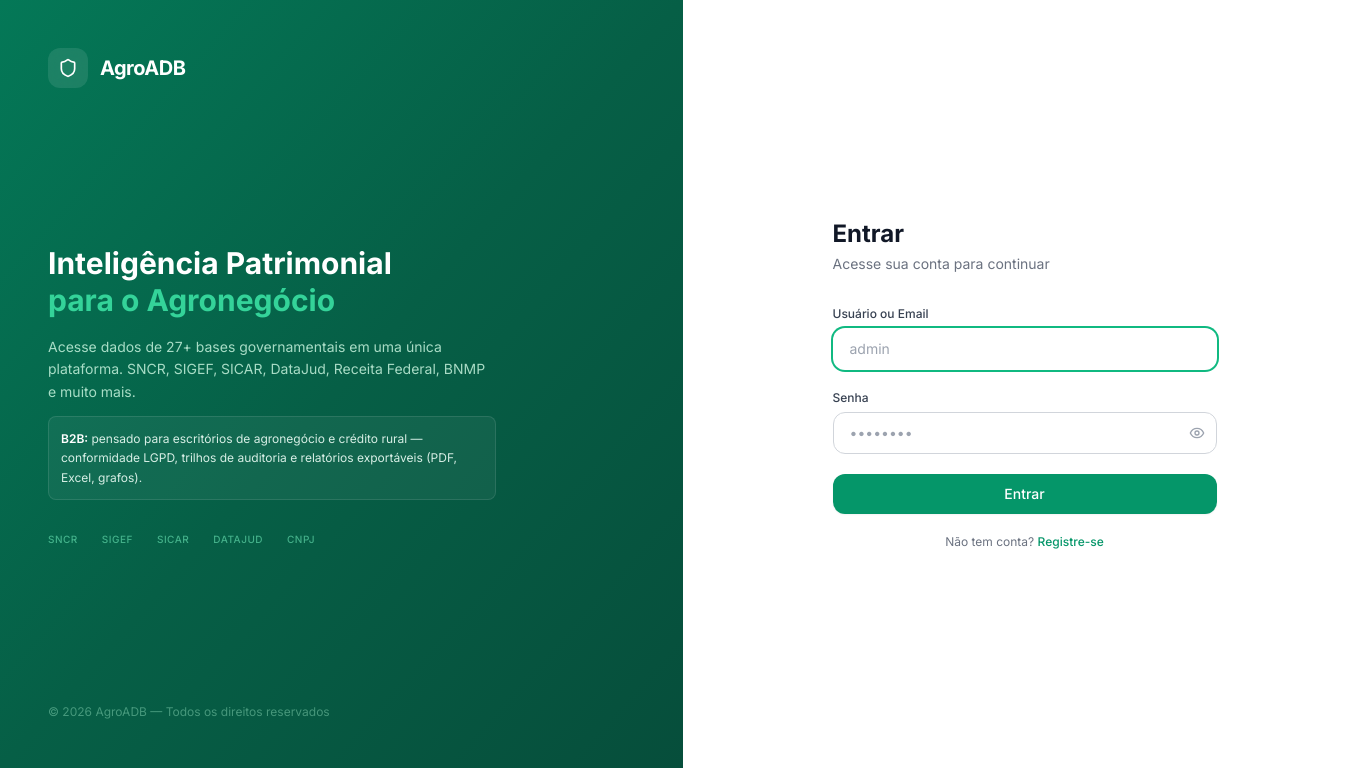
Test: LoginPage Component › should validate minimum username length
Type "ab" into the field labelled "Usuário ou Email".
click(1024, 349); type("ab")  # box [832,328,1216,370]
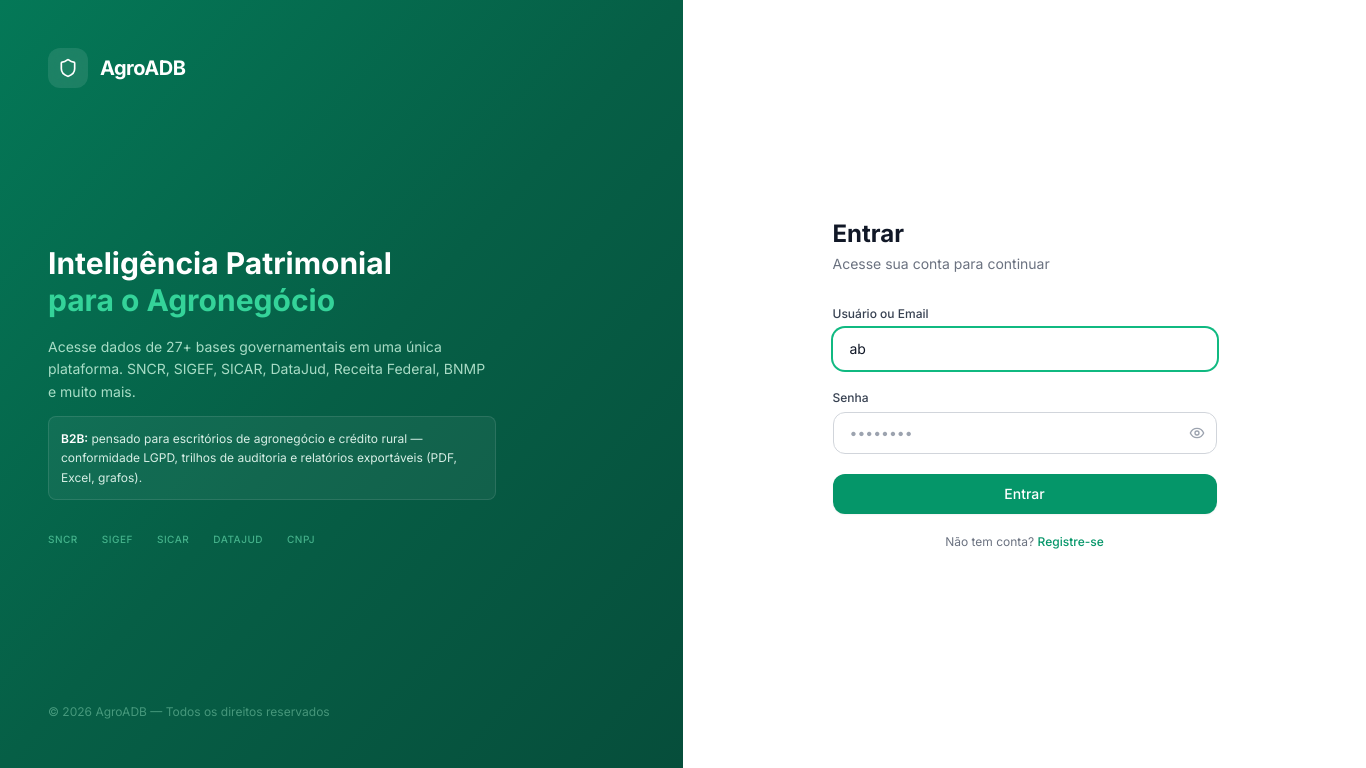
Type "12345" into the password field labelled "Senha".
click(1024, 433); type("12345")  # box [832,412,1216,454]
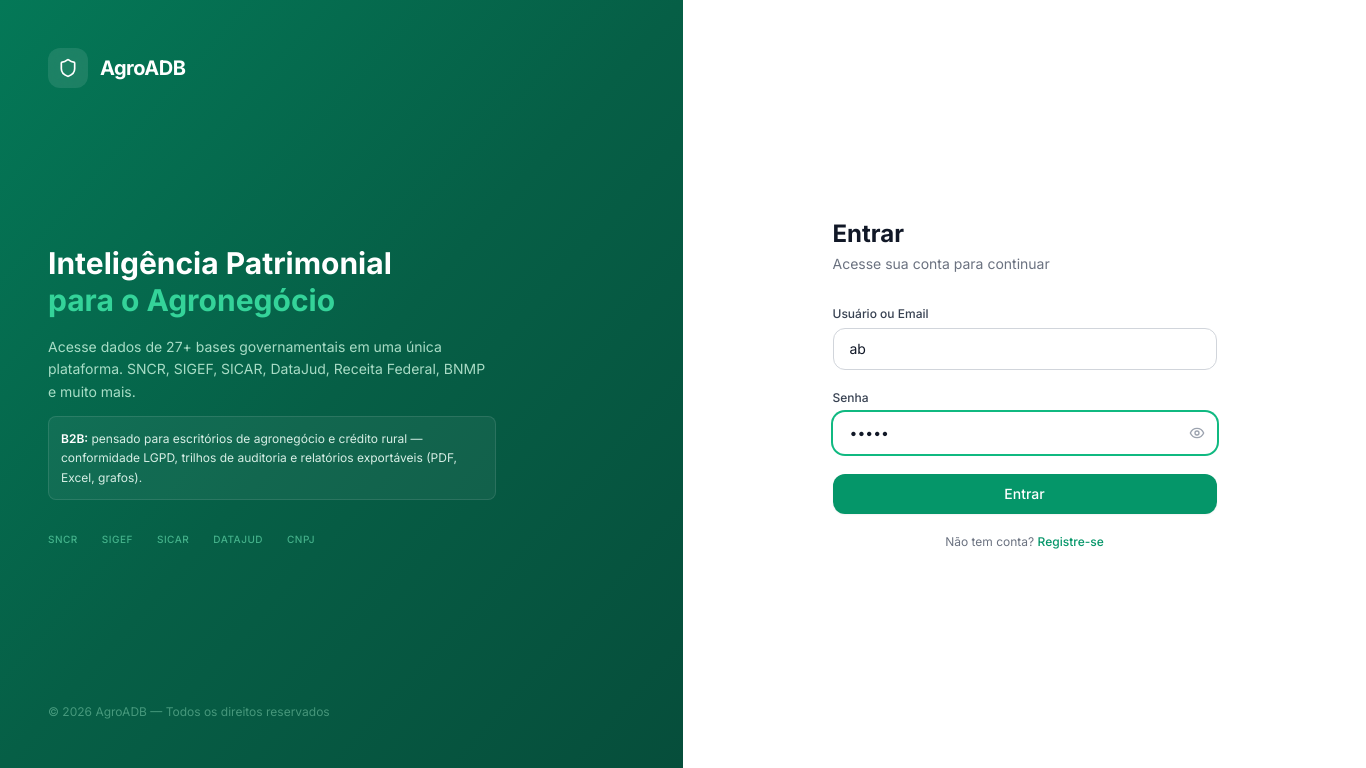
Click the button "Entrar".
click(1024, 494)  # box [832,474,1216,514]
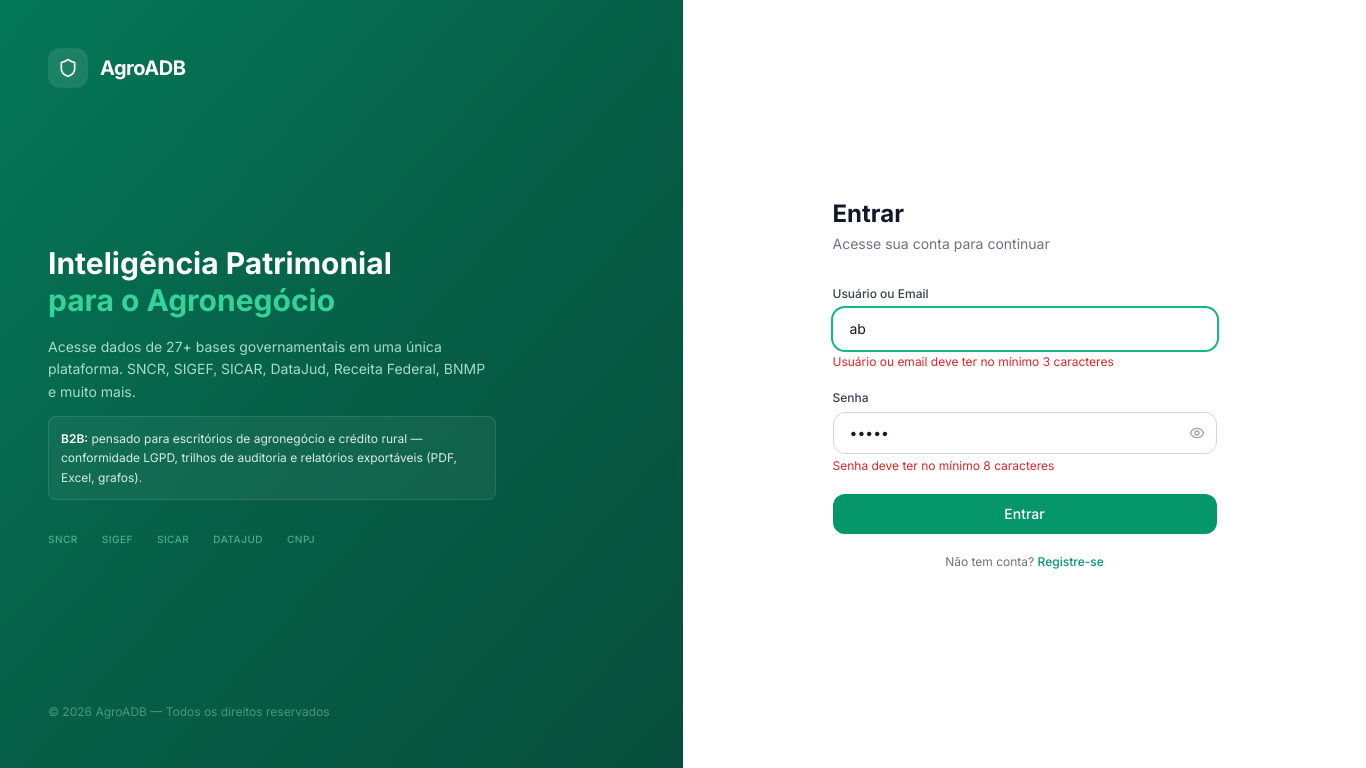
Expected: the text "Usuário ou email deve ter no mínimo 3 caracteres" is shown, [832,354,1114,369]
